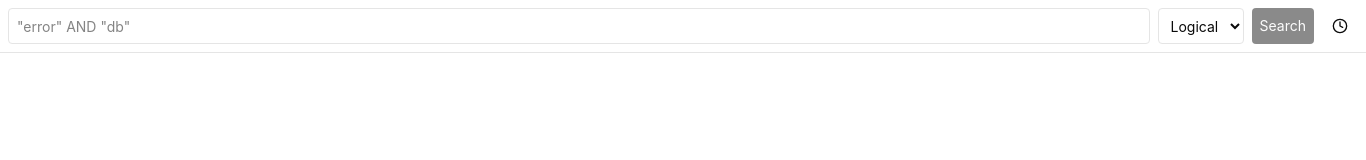
SearchBar › search history › shows an empty-history state when there are no suggestions yet
Click the dropdown named "Search query".
click(579, 26)  # box [8,8,1150,44]
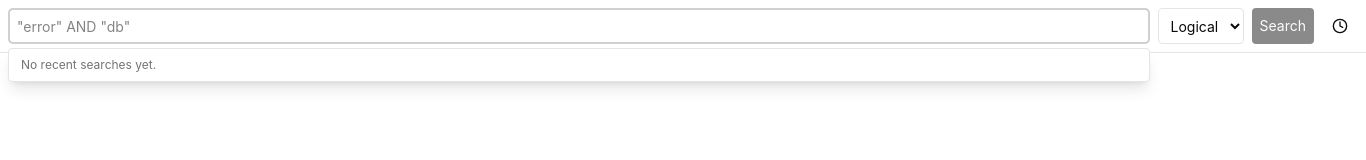
Check: the list item "No recent searches yet." is shown, box [21,57,156,72]
